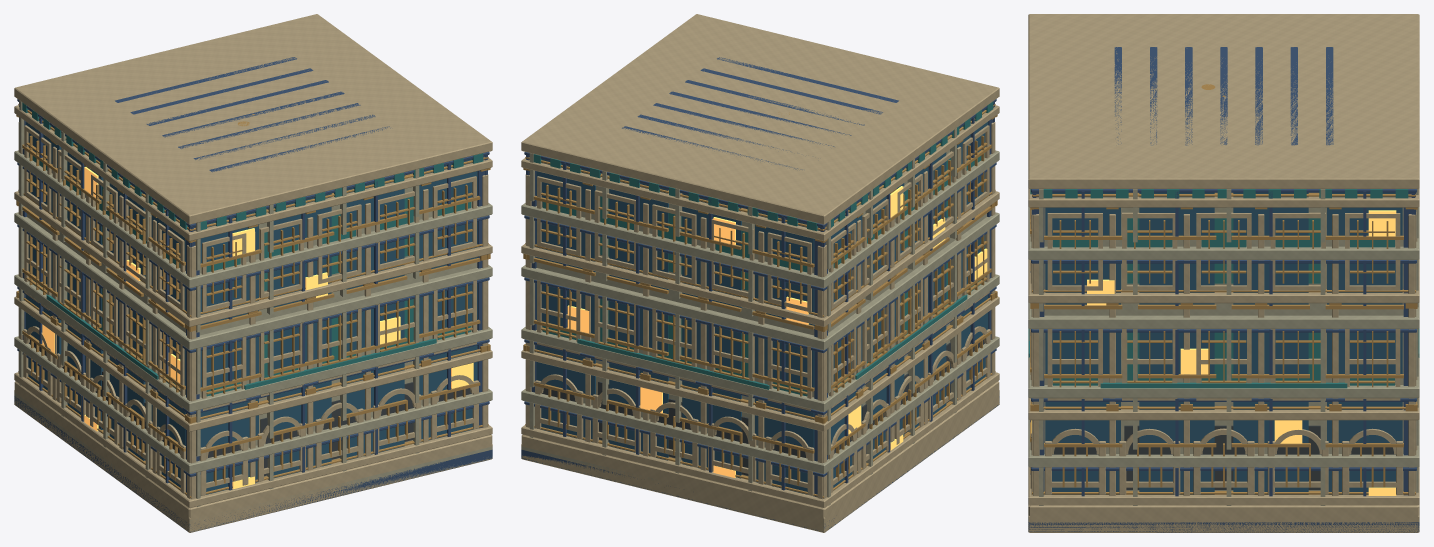
File: architecture.glb
3 renders of one model, left to right at view 1: azimuth 30°, elevation 25°; view 2: azimuth 150°, elevation 25°; view 3: azimuth 270°, elevation 25°, orthographic. The views are drawn at different scales.
Parts seen in each view (by area): view 1: temple_sandstone, modern_terrace, lanka_watchtower, transit_garden; view 2: temple_sandstone, modern_terrace, lanka_watchtower, transit_garden; view 3: temple_sandstone, modern_terrace, lanka_watchtower, transit_garden.
Boxes of the visible parts, x1,y1,x2,y2 form: temple_sandstone: (14, 14, 492, 532); modern_terrace: (14, 99, 492, 532); lanka_watchtower: (14, 381, 492, 531); transit_garden: (14, 57, 492, 531); temple_sandstone: (521, 14, 999, 532); modern_terrace: (521, 99, 999, 531); lanka_watchtower: (521, 381, 999, 531); transit_garden: (521, 57, 999, 531); temple_sandstone: (1028, 14, 1419, 532); modern_terrace: (1028, 189, 1419, 532); lanka_watchtower: (1028, 504, 1419, 531); transit_garden: (1028, 47, 1419, 532).
Size of the model in its own units: 1 by 1 by 1.
Materials: 10 (3 with a texture image).
